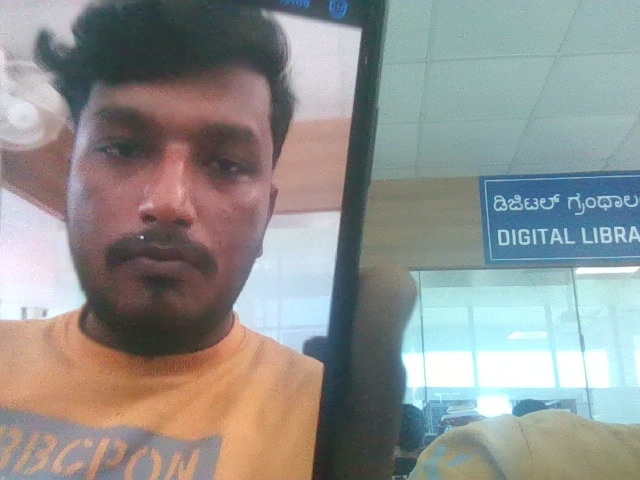fake: (34, 0, 312, 394)
